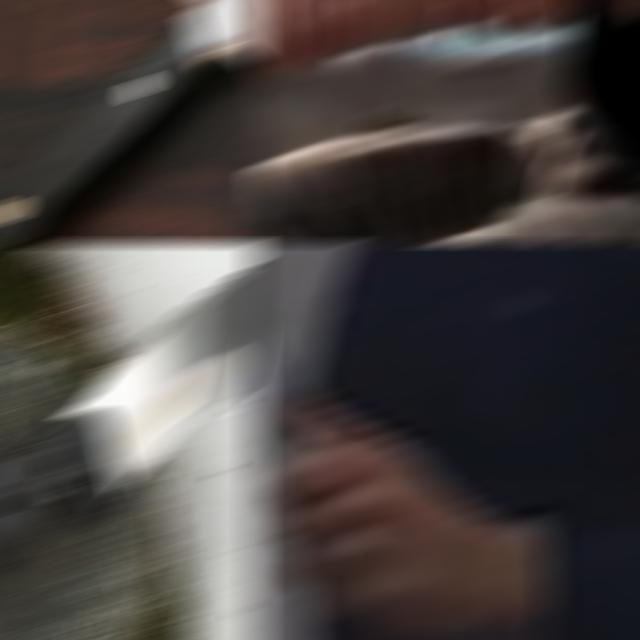Knife: (0, 267, 263, 558), (0, 2, 263, 241), (249, 245, 313, 472)
Knife_Handle: (249, 245, 500, 638)
